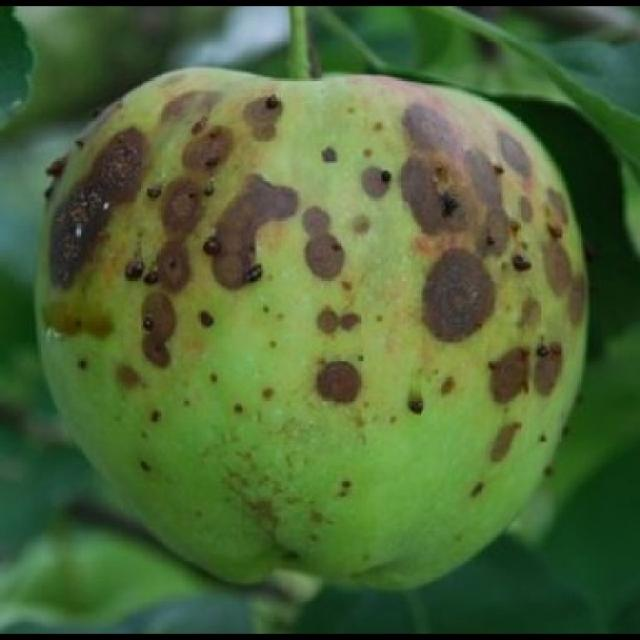Rotten Apple: (28, 64, 594, 598)
